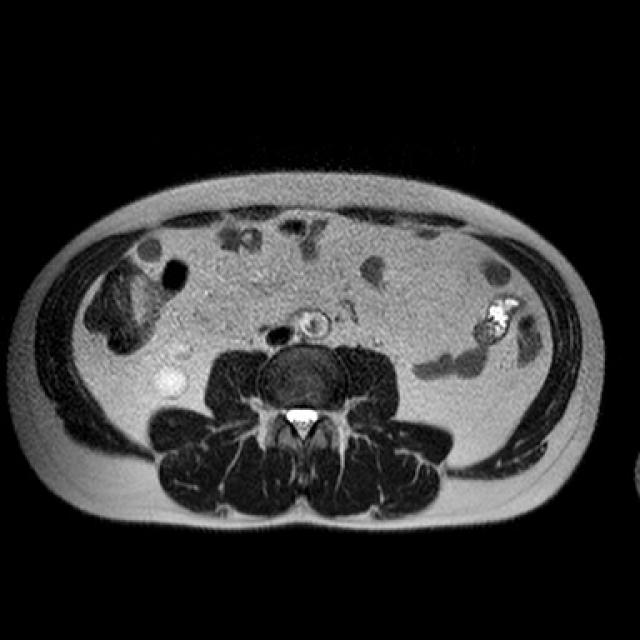sag: (147, 362, 190, 402)
